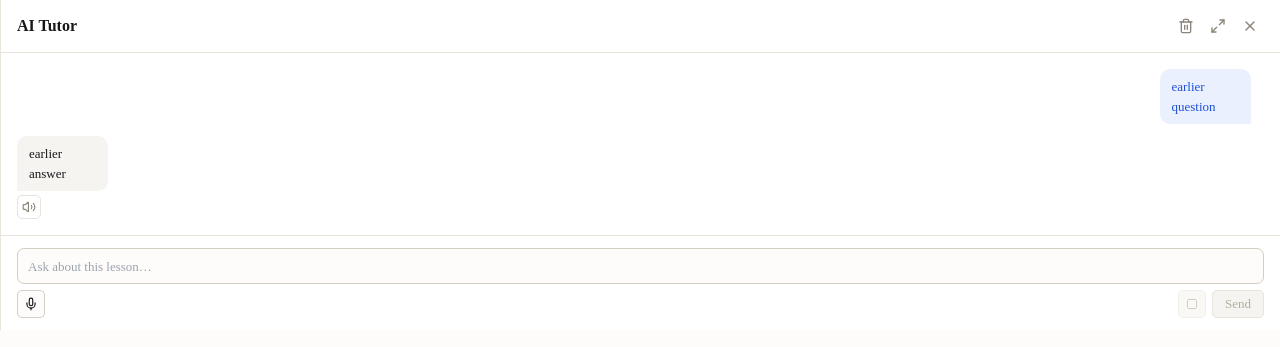
Test case: LessonChat (US-211) — history hydration + Clear history › Clear history asks for confirmation, then clears the view and DELETEs the file
The image size is (1280, 347).
Expected: the text "earlier answer" is shown, [29,146,66,180]
Note: First click arms the confirm step — nothing deleted yet.
Click the button with test id "lesson-chat-clear": (1186, 26) [1172,12,1200,40]
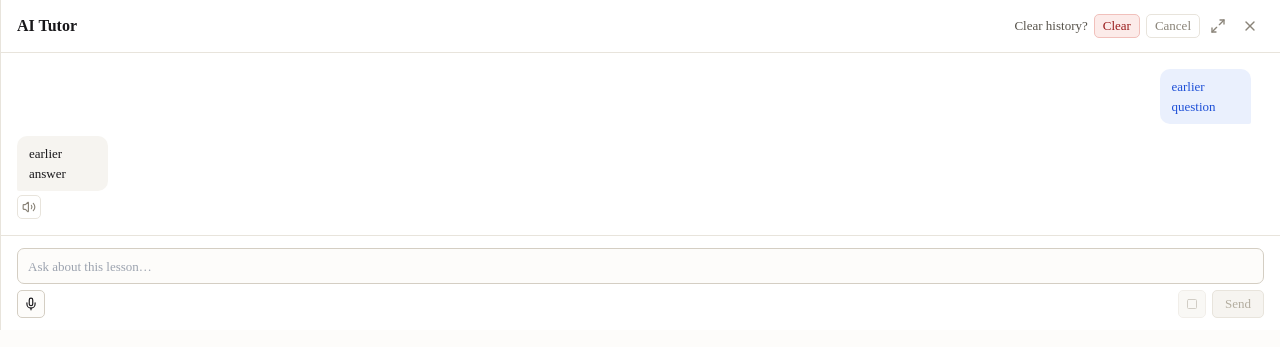
Expected: the button with test id "lesson-chat-clear-confirm" is shown
Note: Confirm — view clears and a DELETE is issued.
Click the button with test id "lesson-chat-clear-confirm": (1117, 26) [1094,14,1140,38]
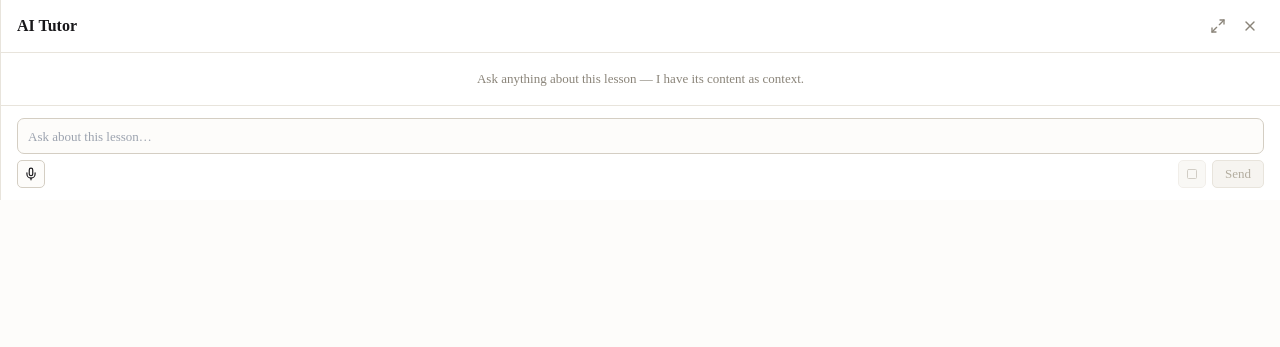
Expected: the text "earlier answer" is gone
Expected: the text with test id "lesson-chat-empty" is shown, [477,71,804,86]
